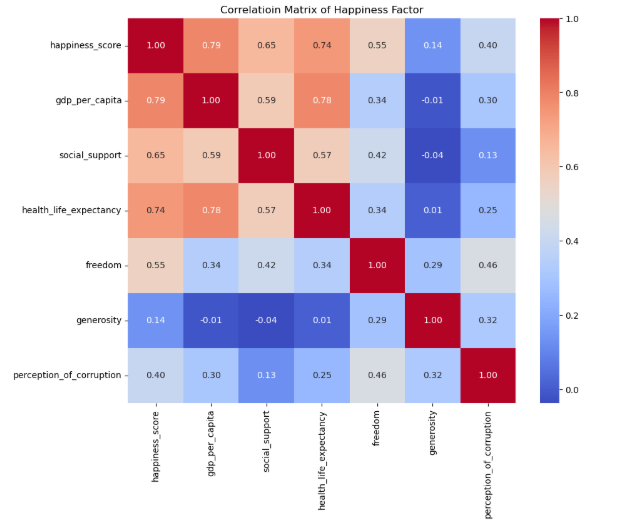

The page's visual inventory and layout, read from the dashboard file:
{"tool":"tableau","page":{"name":"Correlation Heat Map","canvas":[650,860],"ordinal":0},"visuals":[{"type":"image","param":"C:/Users/shais/Documents/Achievement 6/6.2 Exploring Relationships/Visualization","box":[8,8.6,634,842.8]}]}

Visuals, with their boxes on the page's 650x860 design canvas (x1, y1, x2, y2). These are canvas units, not pixel positions in the 617x523 screenshot, which may show the page scaled, cropped or inside an application window:
image: box=[8, 9, 642, 851]
